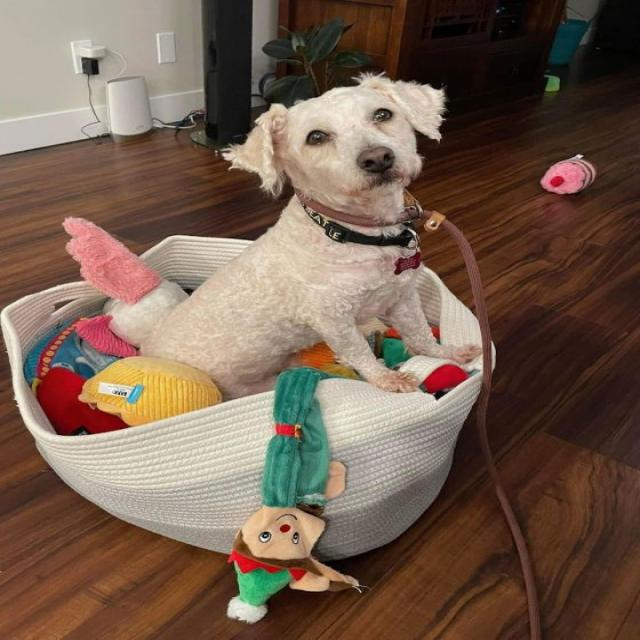Poodle_dog: (217, 62, 469, 261)
